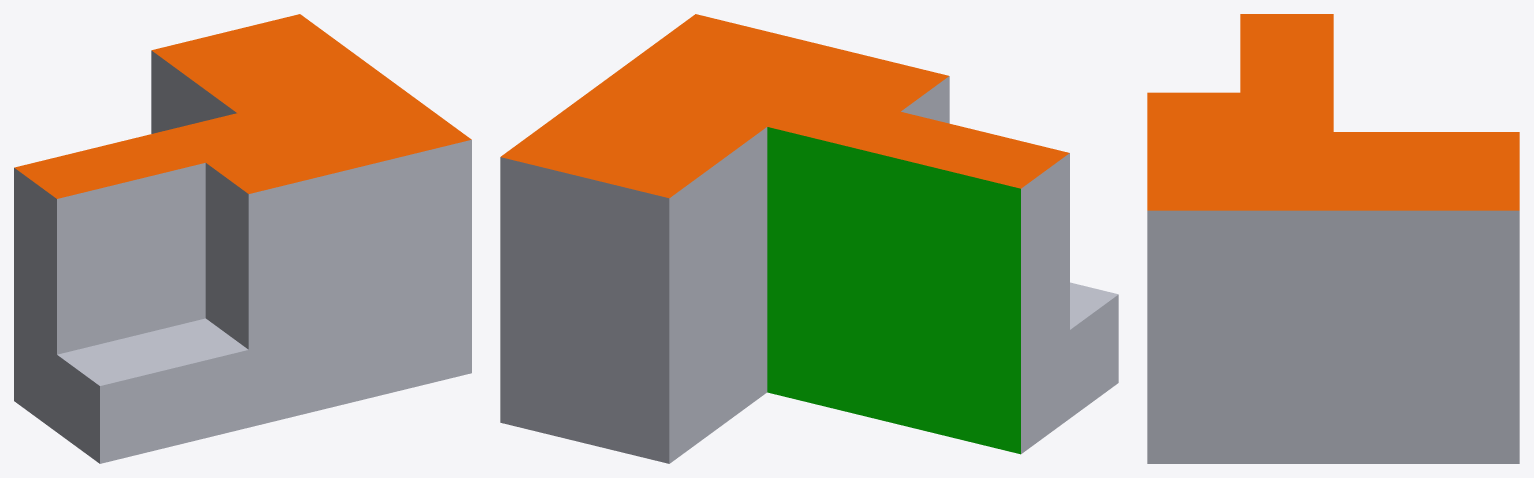
The model's file is 3D-third.gltf.
The picture shows the model from 3 angles, left to right: view 1: azimuth 30°, elevation 25°; view 2: azimuth 150°, elevation 25°; view 3: azimuth 270°, elevation 25°; orthographic projection. The views are drawn at different scales.
Parts seen in each view (by area): view 1: 3DGeom-12, 3DGeom-14; view 2: 3DGeom-12, 3DGeom-13, 3DGeom-14; view 3: 3DGeom-12, 3DGeom-14.
Part boxes in pixels (<box>): 3DGeom-12: <box>14,50,471,463</box>; 3DGeom-14: <box>14,14,471,198</box>; 3DGeom-12: <box>500,76,1118,463</box>; 3DGeom-13: <box>767,127,1020,454</box>; 3DGeom-14: <box>501,14,1069,198</box>; 3DGeom-12: <box>1147,210,1519,463</box>; 3DGeom-14: <box>1147,14,1519,210</box>.
Size of the model in its own units: 0.5 by 0.3 by 0.4.
